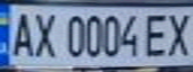0: (60, 10, 84, 60), (84, 11, 106, 58), (103, 11, 124, 58)
4: (121, 11, 145, 58)
A: (6, 8, 36, 59)
E: (142, 10, 172, 58)
X: (30, 8, 60, 60), (163, 9, 193, 57)
